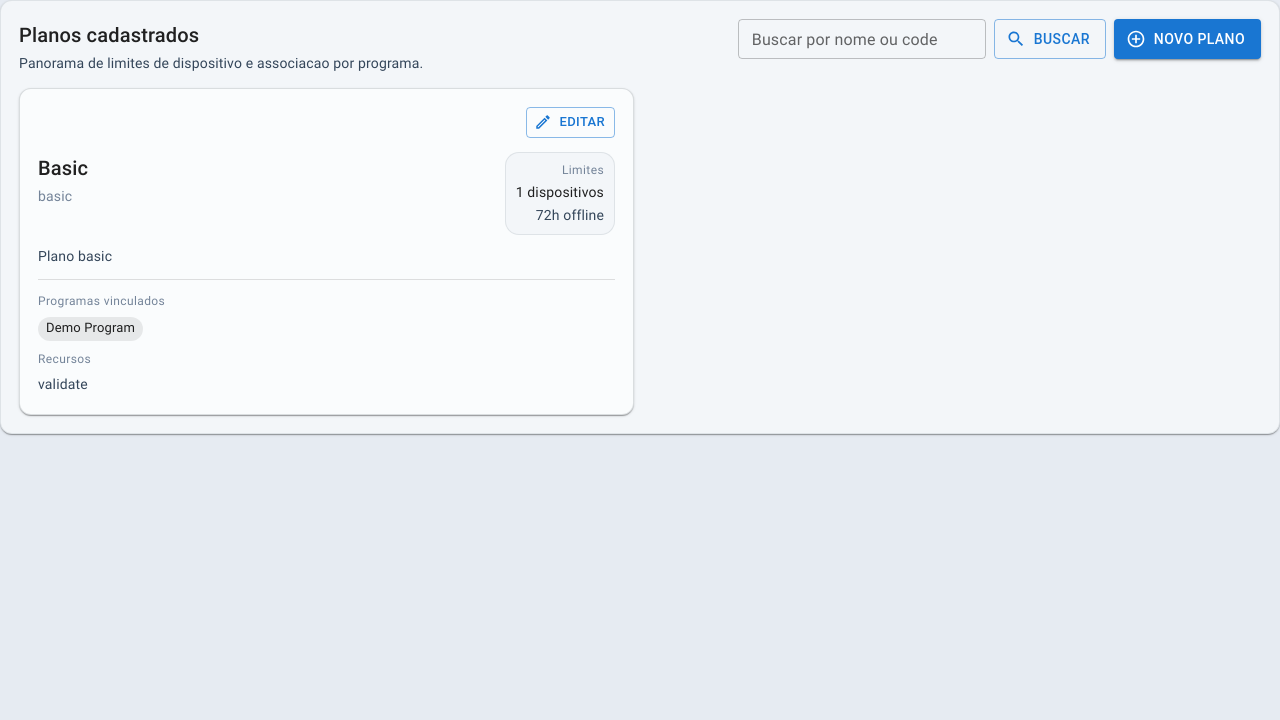
Test case: PlansPanel › edits an existing plan from the summary card
Step 1. Click the button "Editar" → {"x": 570, "y": 122}, box 526,107 -> 615,138
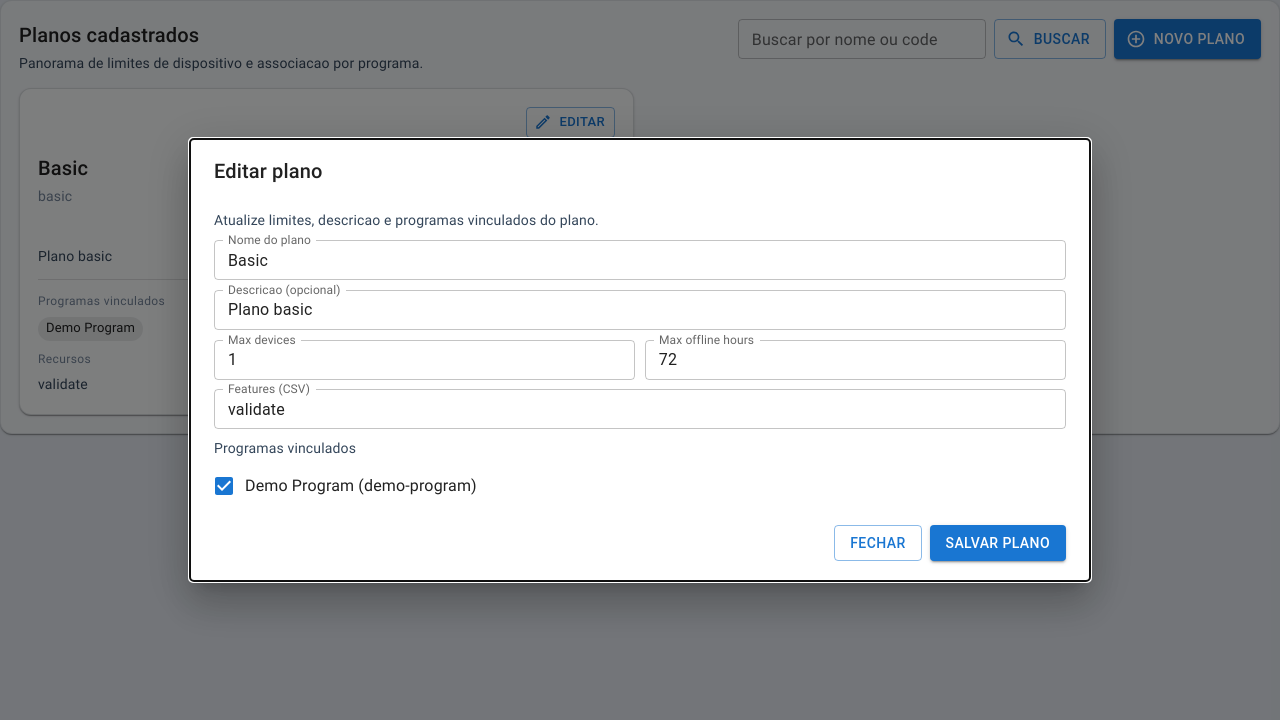
Step 2. Replace the text in the field labelled "Nome do plano" with "Basic Updated" → {"x": 640, "y": 260}, box 214,240 -> 1066,280
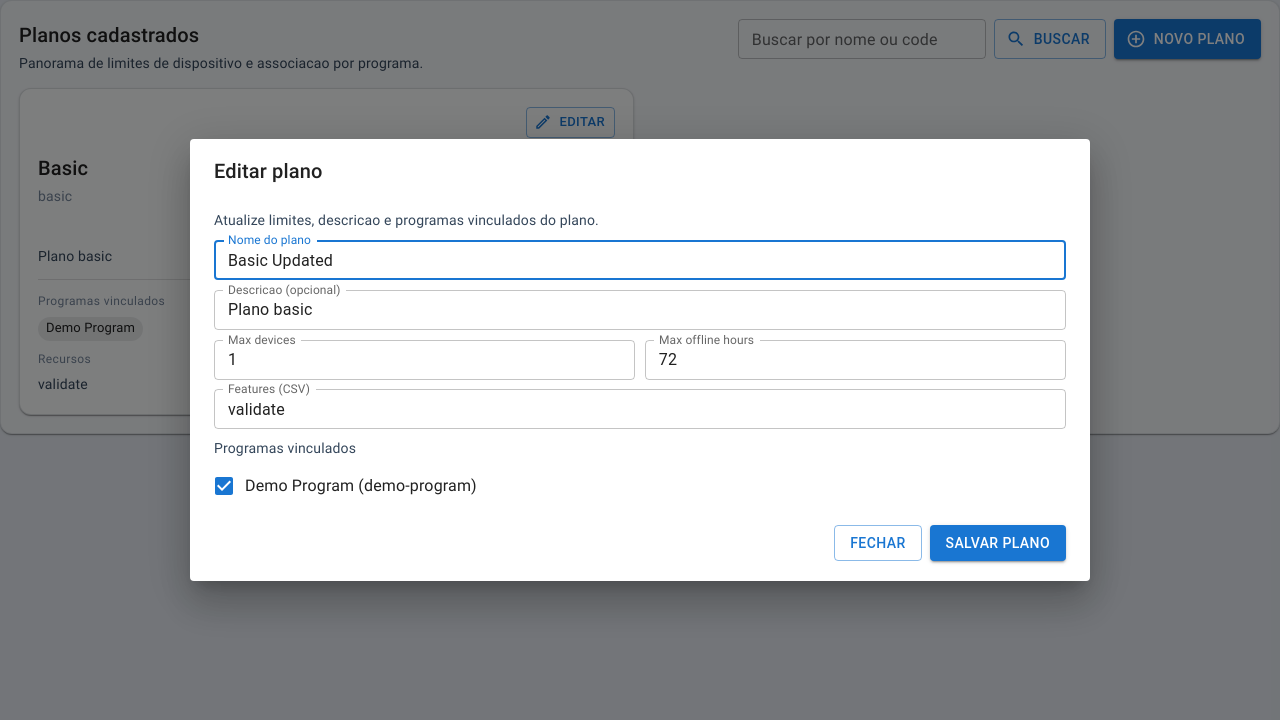
Step 3. Replace the text in the number field labelled "Max offline hours" with "96" → {"x": 855, "y": 360}, box 645,340 -> 1066,380
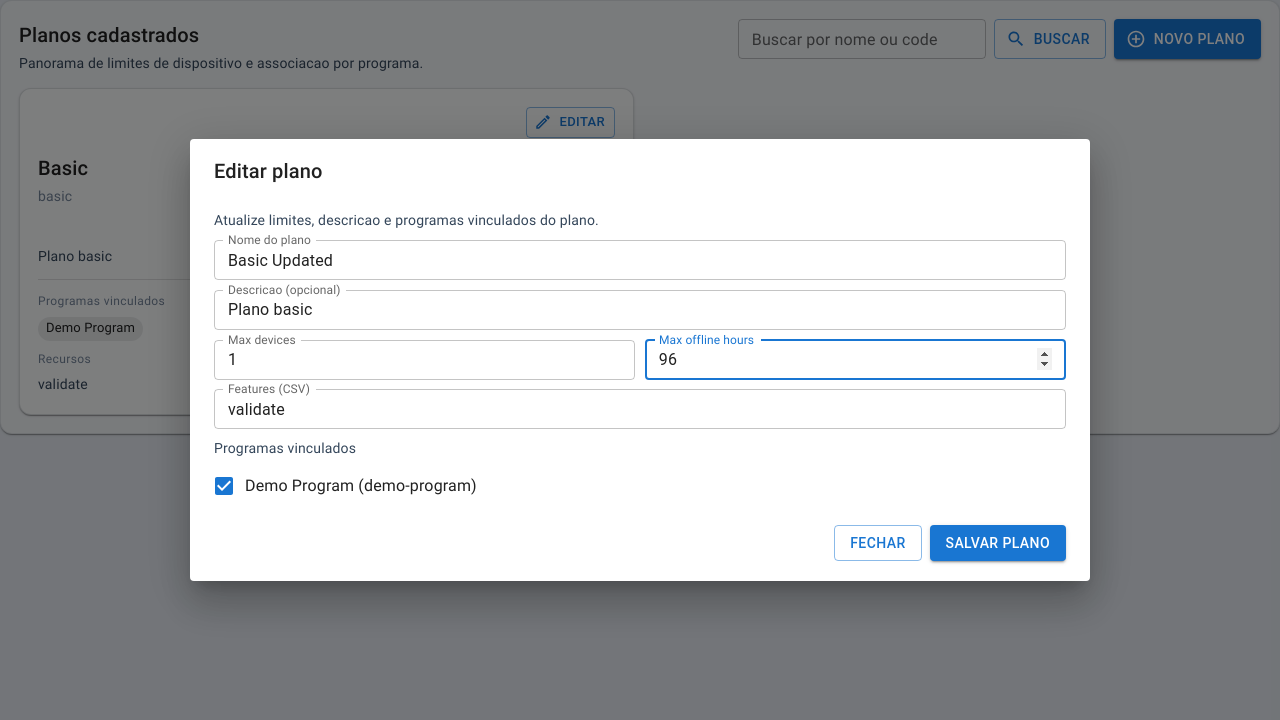
Step 4. Click the button "Salvar plano" → {"x": 998, "y": 543}, box 930,525 -> 1066,561
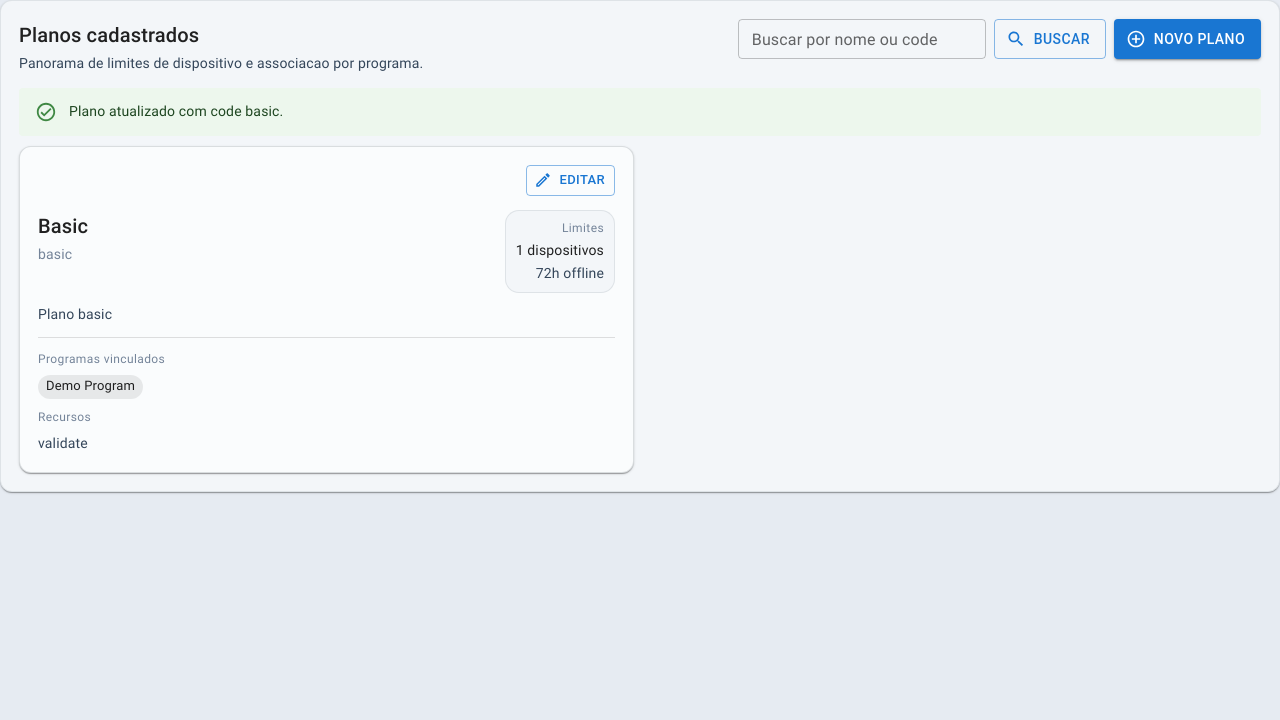
Now the text "Plano atualizado com code basic." is shown, box 69,104 -> 283,120
